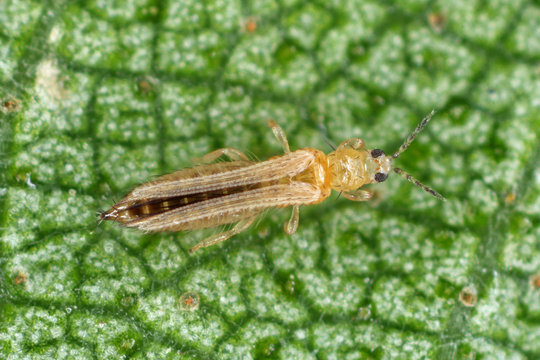Thrips: (92, 108, 452, 261)
